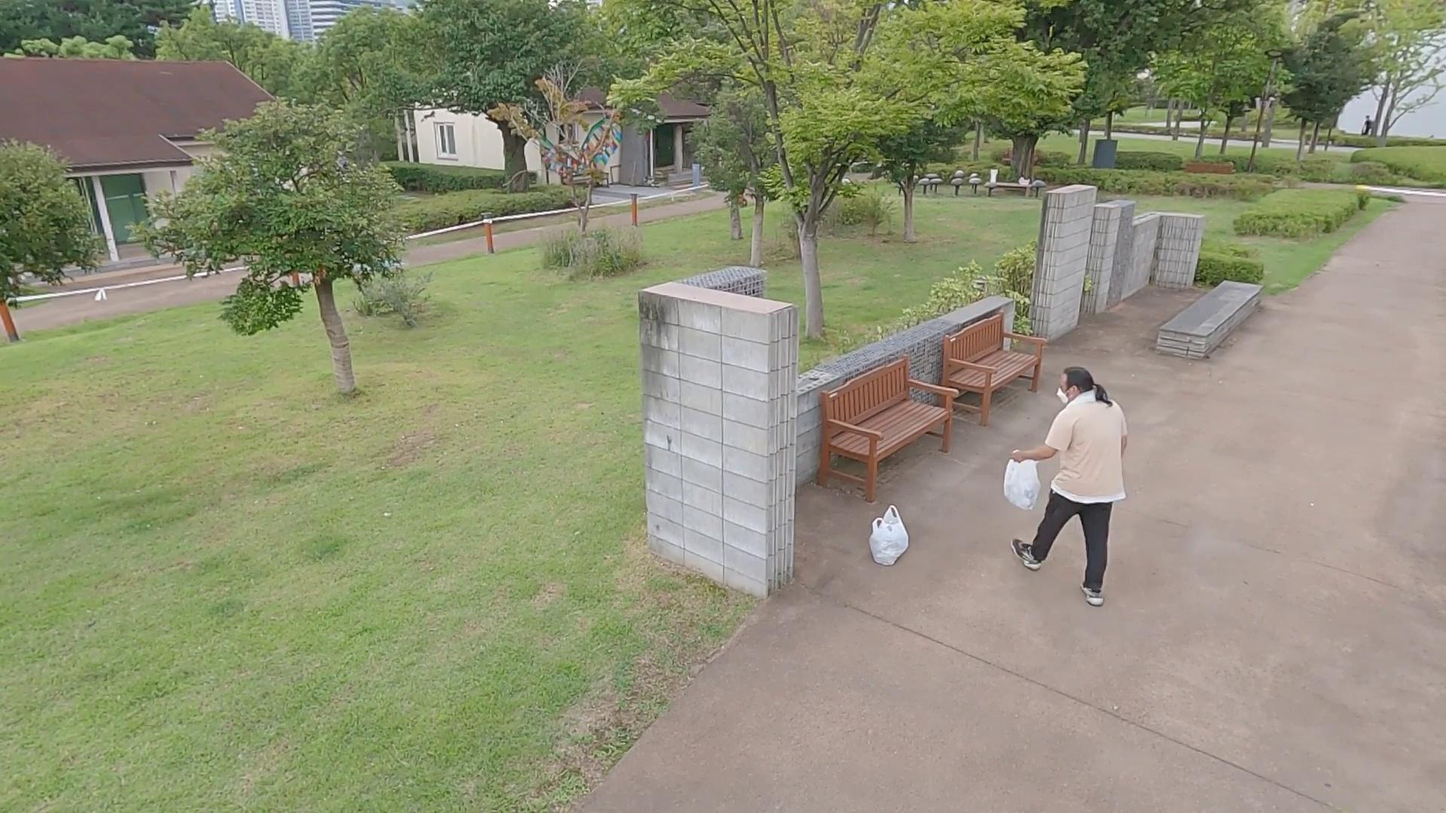person: (1011, 365, 1131, 611)
trash: (866, 502, 911, 567), (1004, 451, 1040, 512)
